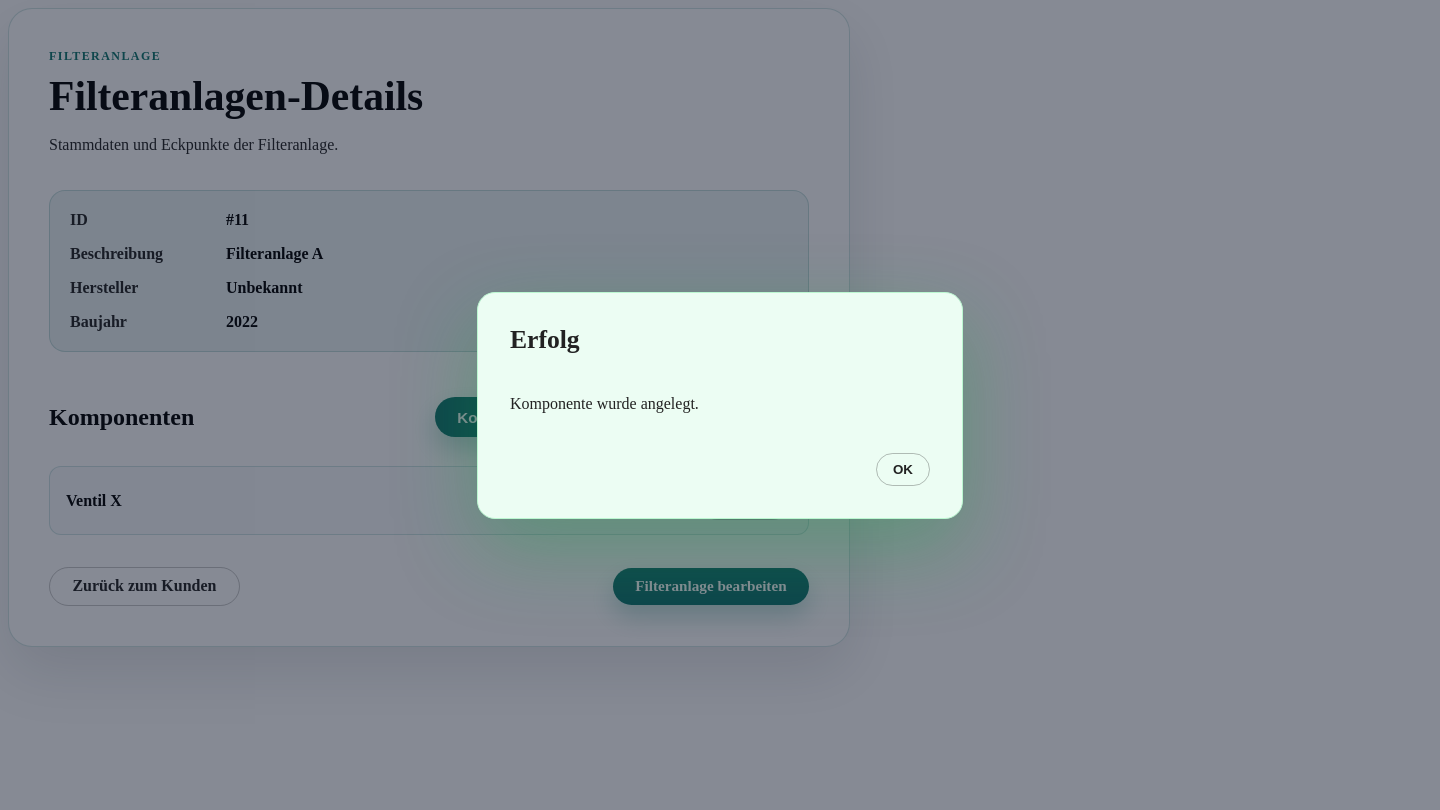
it: FilterPlantDetailPage › should show component success modal and dismiss it
Click the button with class "ghost-button" at x=903, y=469, box 876,452 -> 930,486
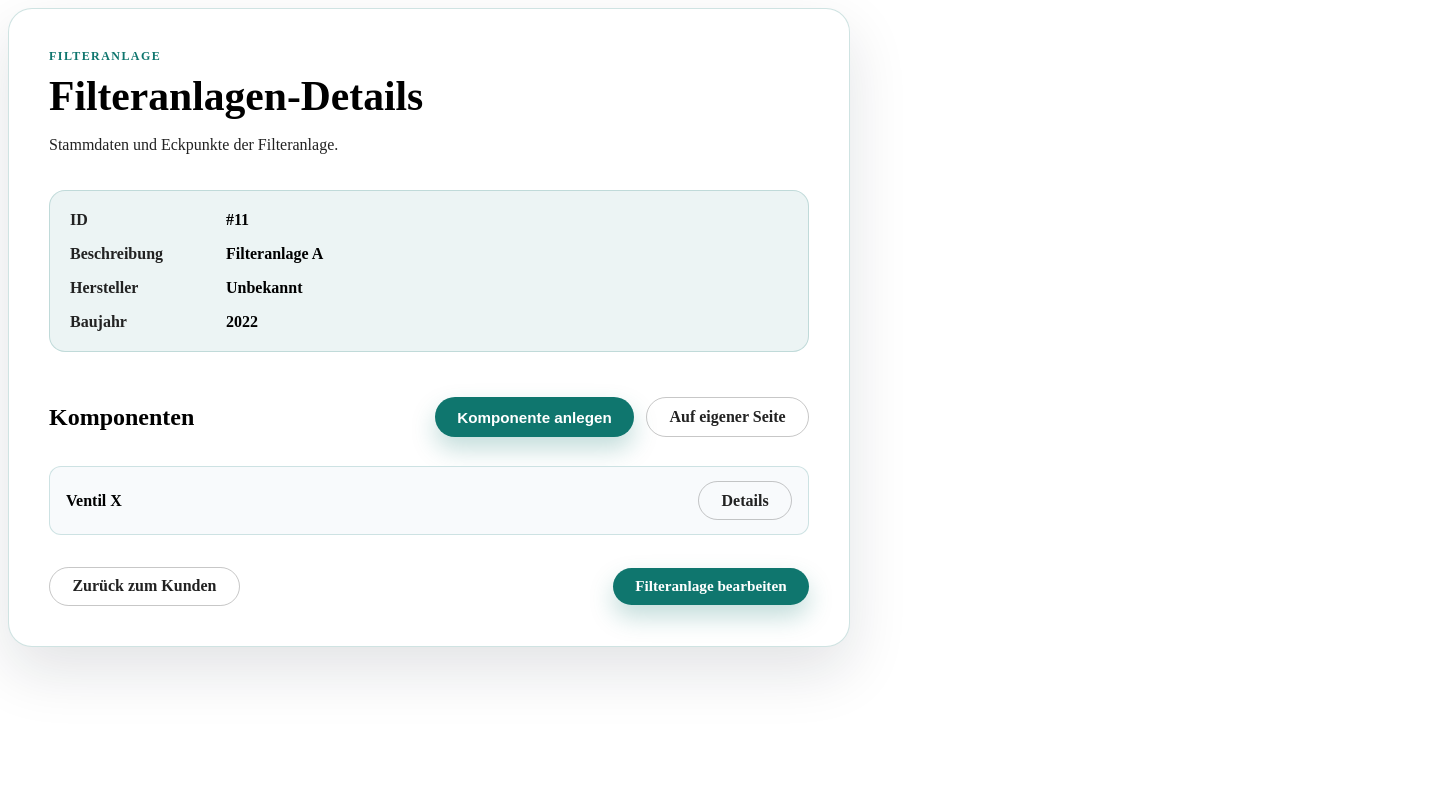
Expected: the text "Komponente wurde angelegt." is gone
